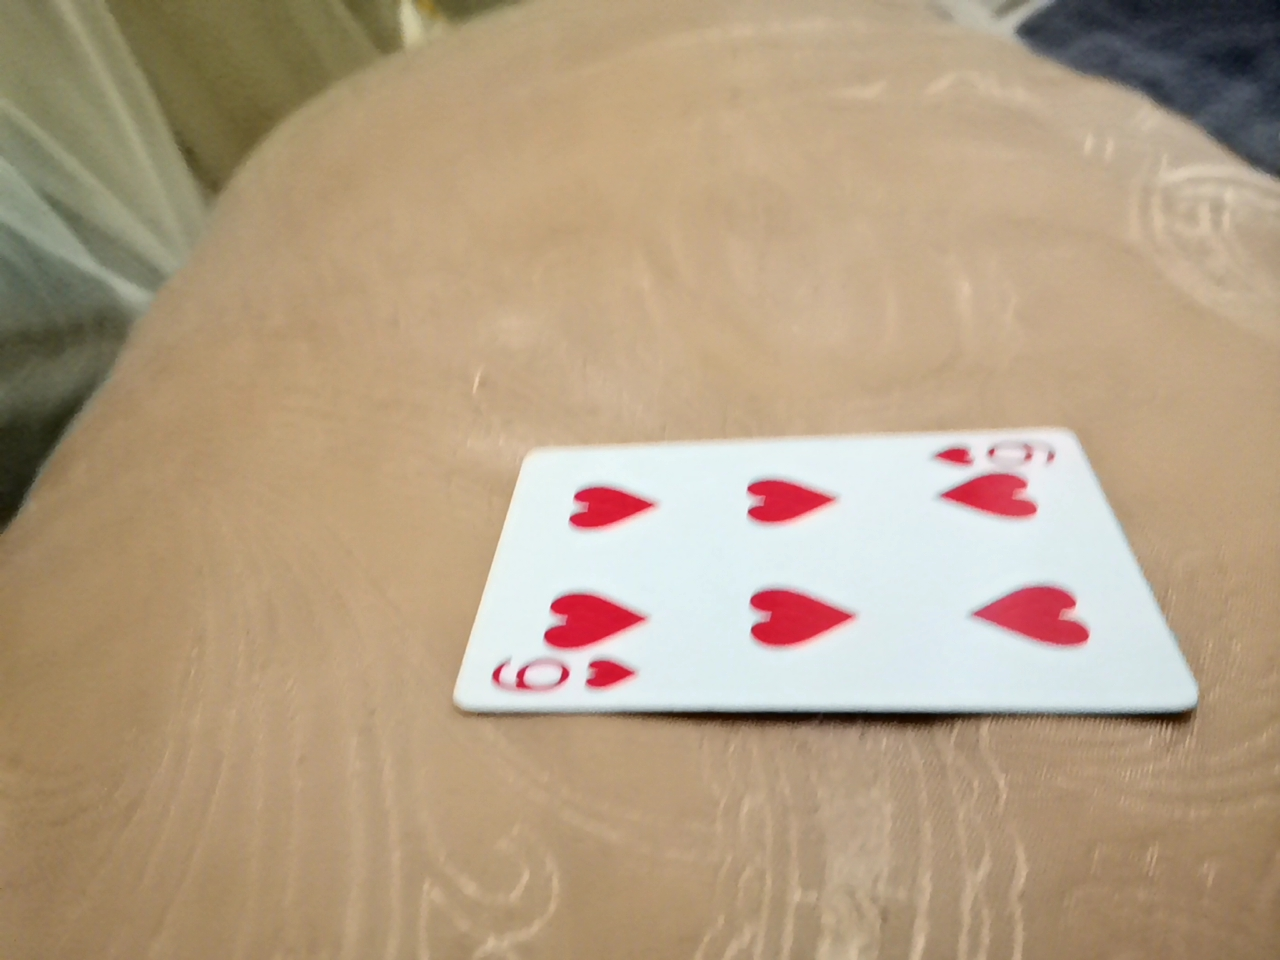hx 6: (472, 473, 1177, 763)
